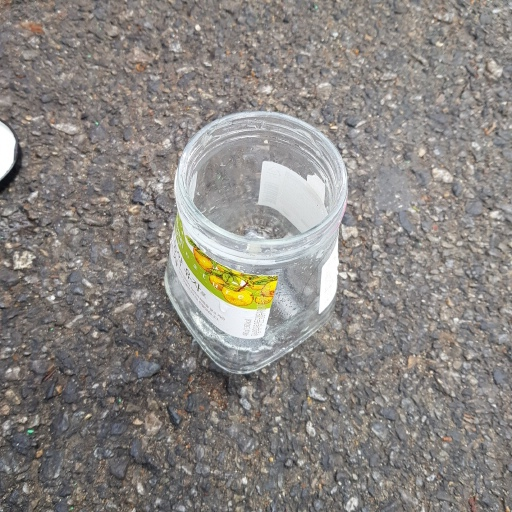Glass_5: (158, 99, 362, 379)
